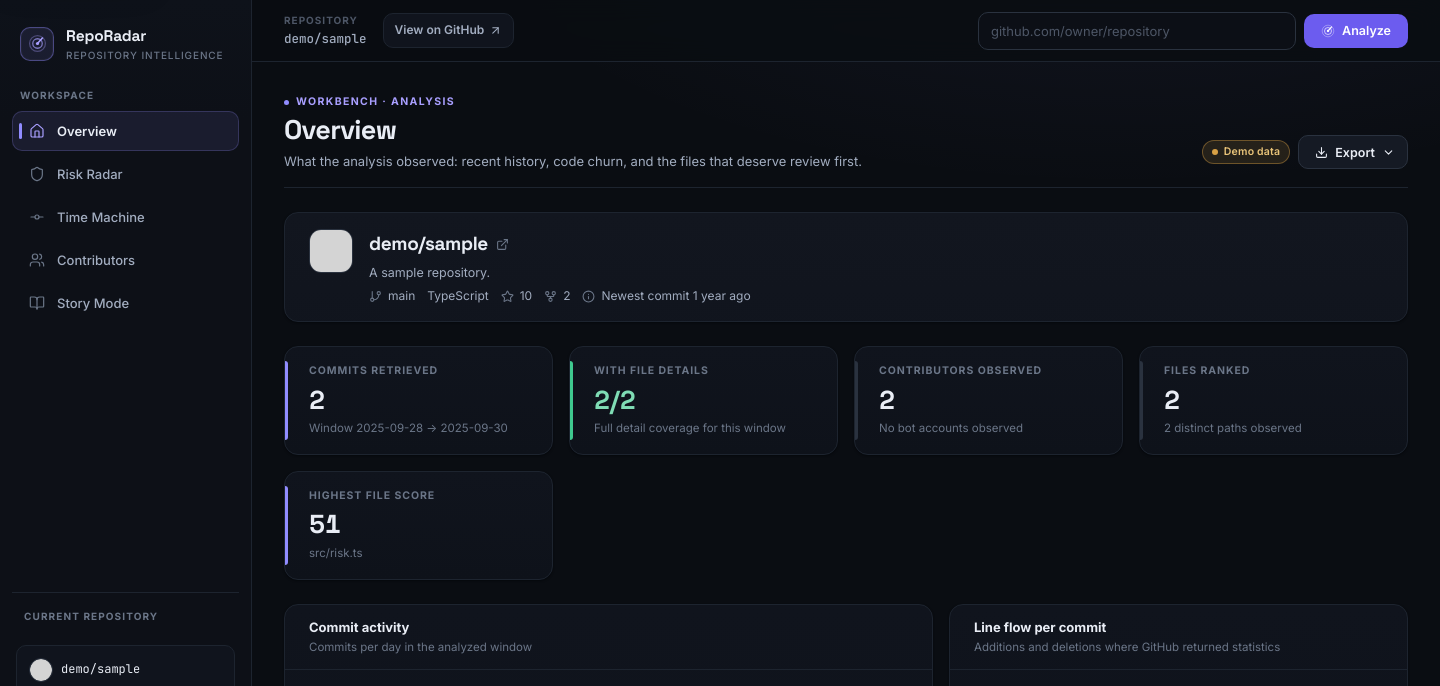
Test: App › explains a malformed URL and keeps the current dataset intact
Expected: the heading "Overview" is shown, [284,112,396,147]
Type "github.com/a/b]" into the field named "GitHub repository URL".
click(1137, 30); type("github.com/a/b]")  # box [978,12,1296,50]
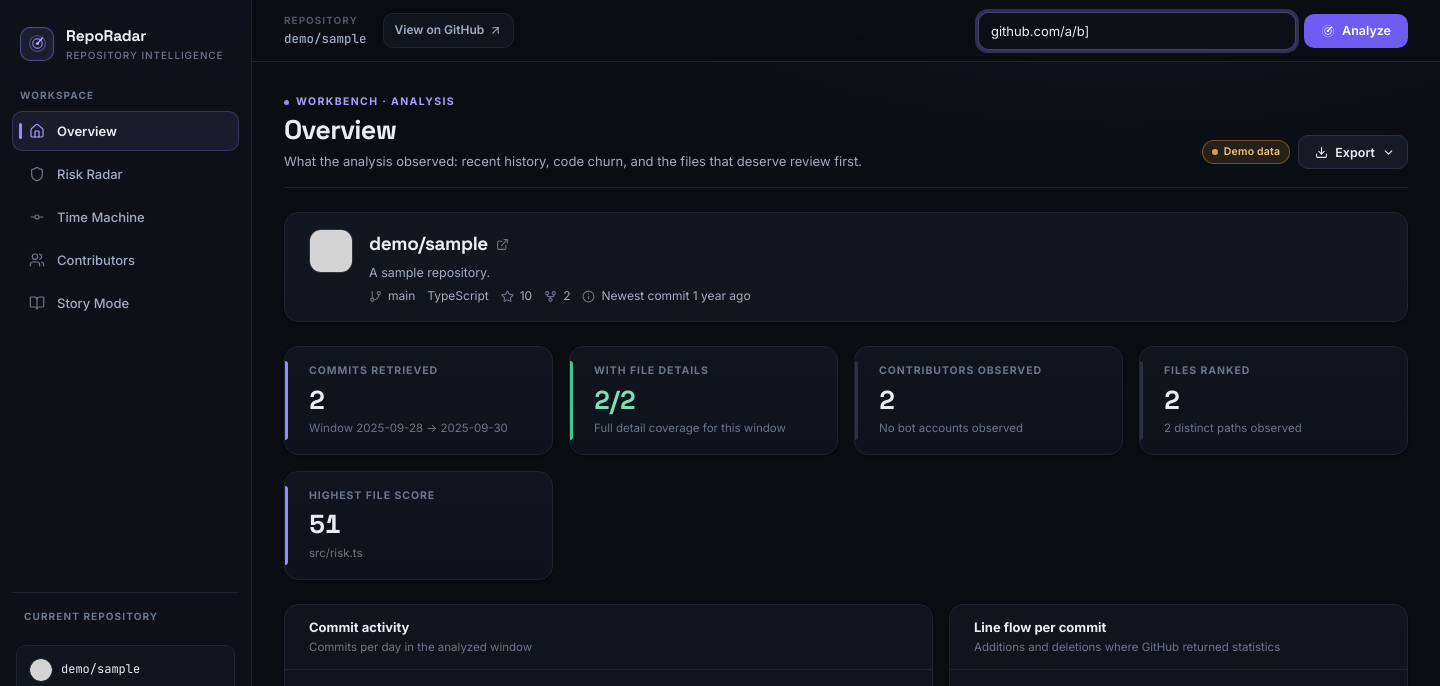
Click the button "Analyze".
click(1356, 30)  # box [1304,14,1408,48]
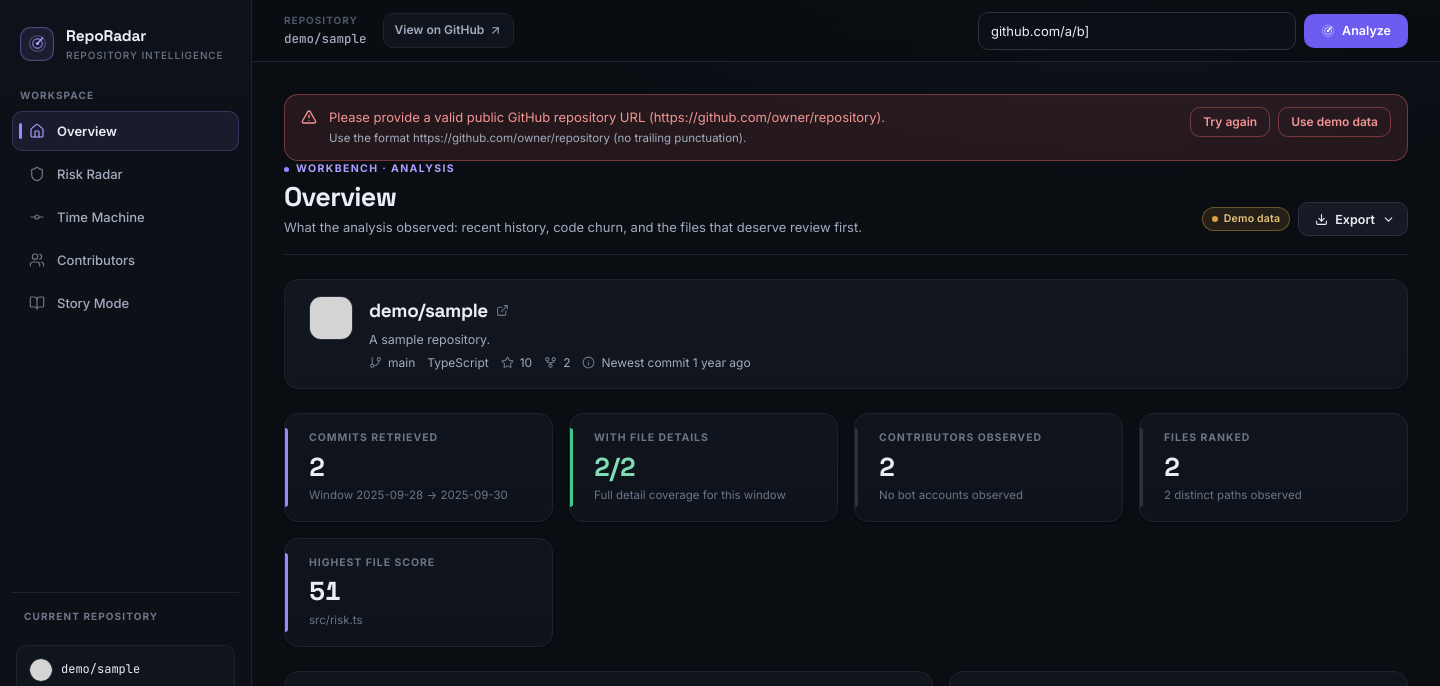
Expected: the link "demo/sample" below "Current repository" is shown, [61,660,140,679]
Expected: the message shows "Please provide a valid public GitHub repository URL", [329,109,885,125]
Expected: the message shows "no trailing punctuation", [329,131,746,145]
